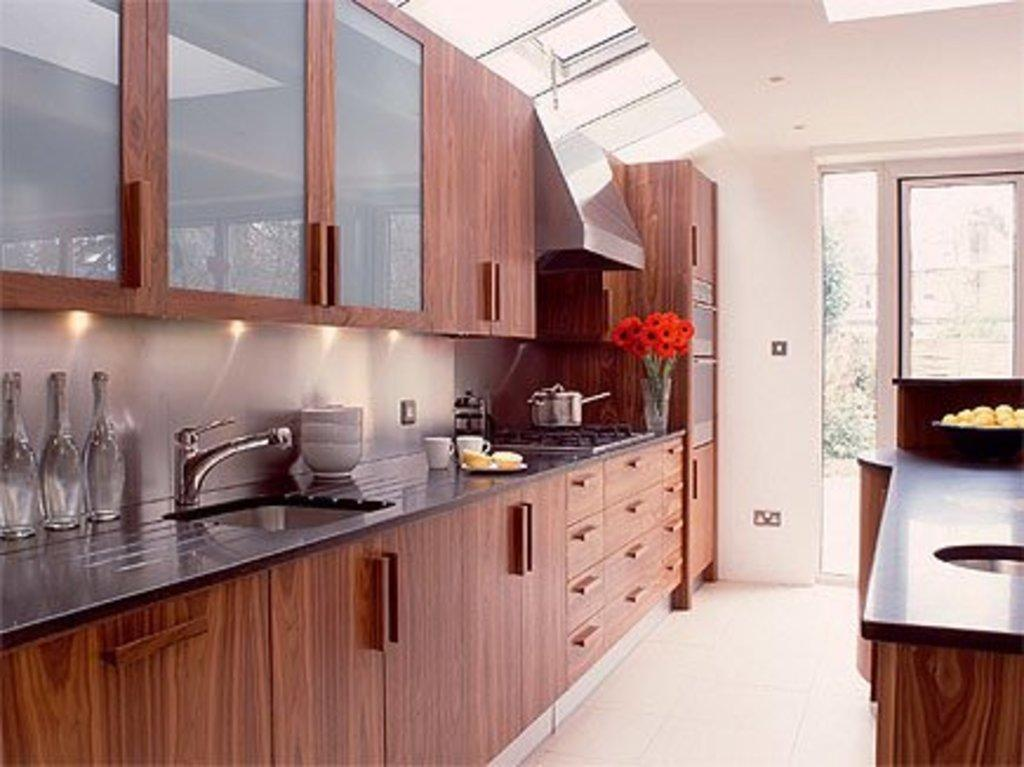cabinet_door: (148, 3, 326, 318), (10, 10, 148, 302), (12, 621, 265, 767), (332, 3, 436, 323), (274, 553, 382, 767), (385, 524, 475, 767), (434, 58, 486, 328), (486, 90, 540, 330), (518, 480, 568, 706), (478, 506, 520, 757), (690, 172, 720, 274), (692, 450, 715, 566), (566, 507, 604, 556), (566, 566, 606, 612), (567, 620, 605, 666), (610, 538, 648, 580), (609, 578, 651, 610), (557, 476, 605, 503), (648, 520, 684, 555), (652, 553, 690, 585), (614, 492, 648, 527), (656, 438, 686, 476), (652, 478, 686, 508), (614, 456, 638, 488)
handle: (100, 612, 207, 672), (124, 172, 154, 298), (370, 550, 390, 662), (386, 543, 404, 652), (306, 221, 328, 308), (328, 224, 346, 304), (493, 250, 509, 325), (512, 498, 526, 582), (522, 494, 536, 576), (684, 221, 705, 270), (480, 254, 494, 322), (566, 470, 600, 493), (690, 456, 704, 506), (568, 626, 598, 648), (574, 572, 604, 593), (570, 519, 596, 542), (663, 514, 684, 542), (664, 558, 686, 580), (626, 544, 650, 562), (623, 584, 643, 605), (628, 499, 646, 520), (664, 443, 683, 462), (668, 478, 685, 498), (625, 457, 641, 471)
